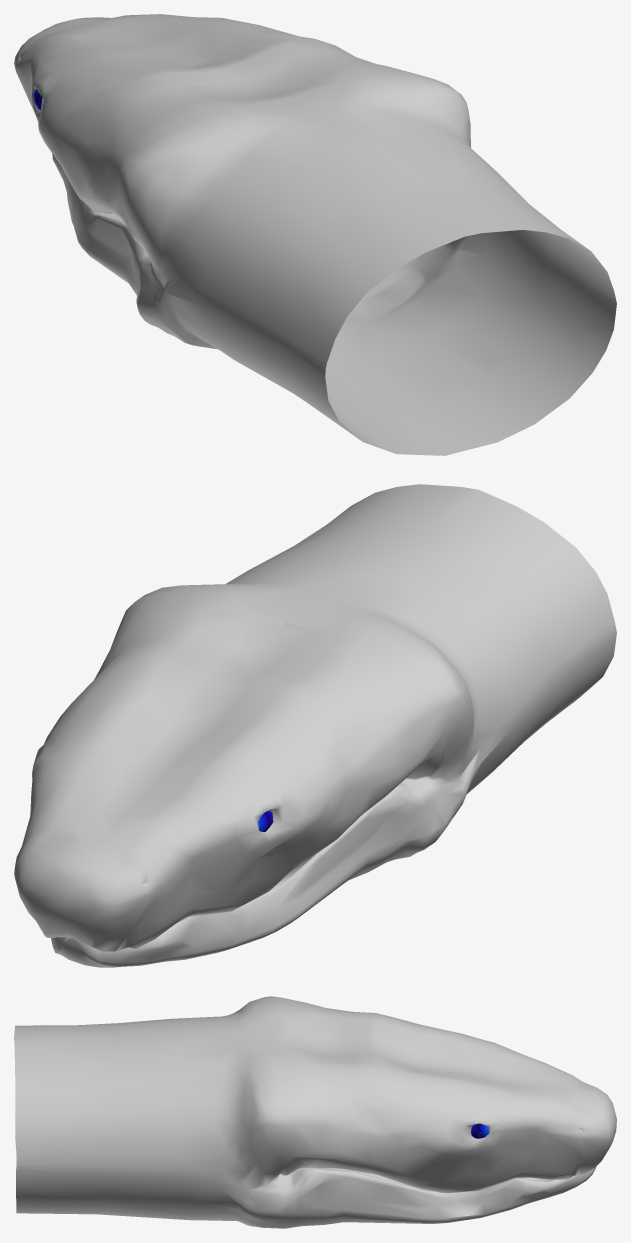
File: SnakeHead.fbx
The picture shows the model from 3 angles, top to bottom: view 1: azimuth 30°, elevation 25°; view 2: azimuth 150°, elevation 25°; view 3: azimuth 270°, elevation 25°; orthographic projection. The views are drawn at different scales.
Visible parts, largest first — view 1: Sphere; view 2: Sphere; view 3: Sphere.
Boxes of the visible parts, x1,y1,x2,y2 form: Sphere: [14, 14, 616, 455]; Sphere: [14, 484, 616, 967]; Sphere: [14, 996, 616, 1228].
Bounding box in the file's own units: 143 × 95.43 × 306.
